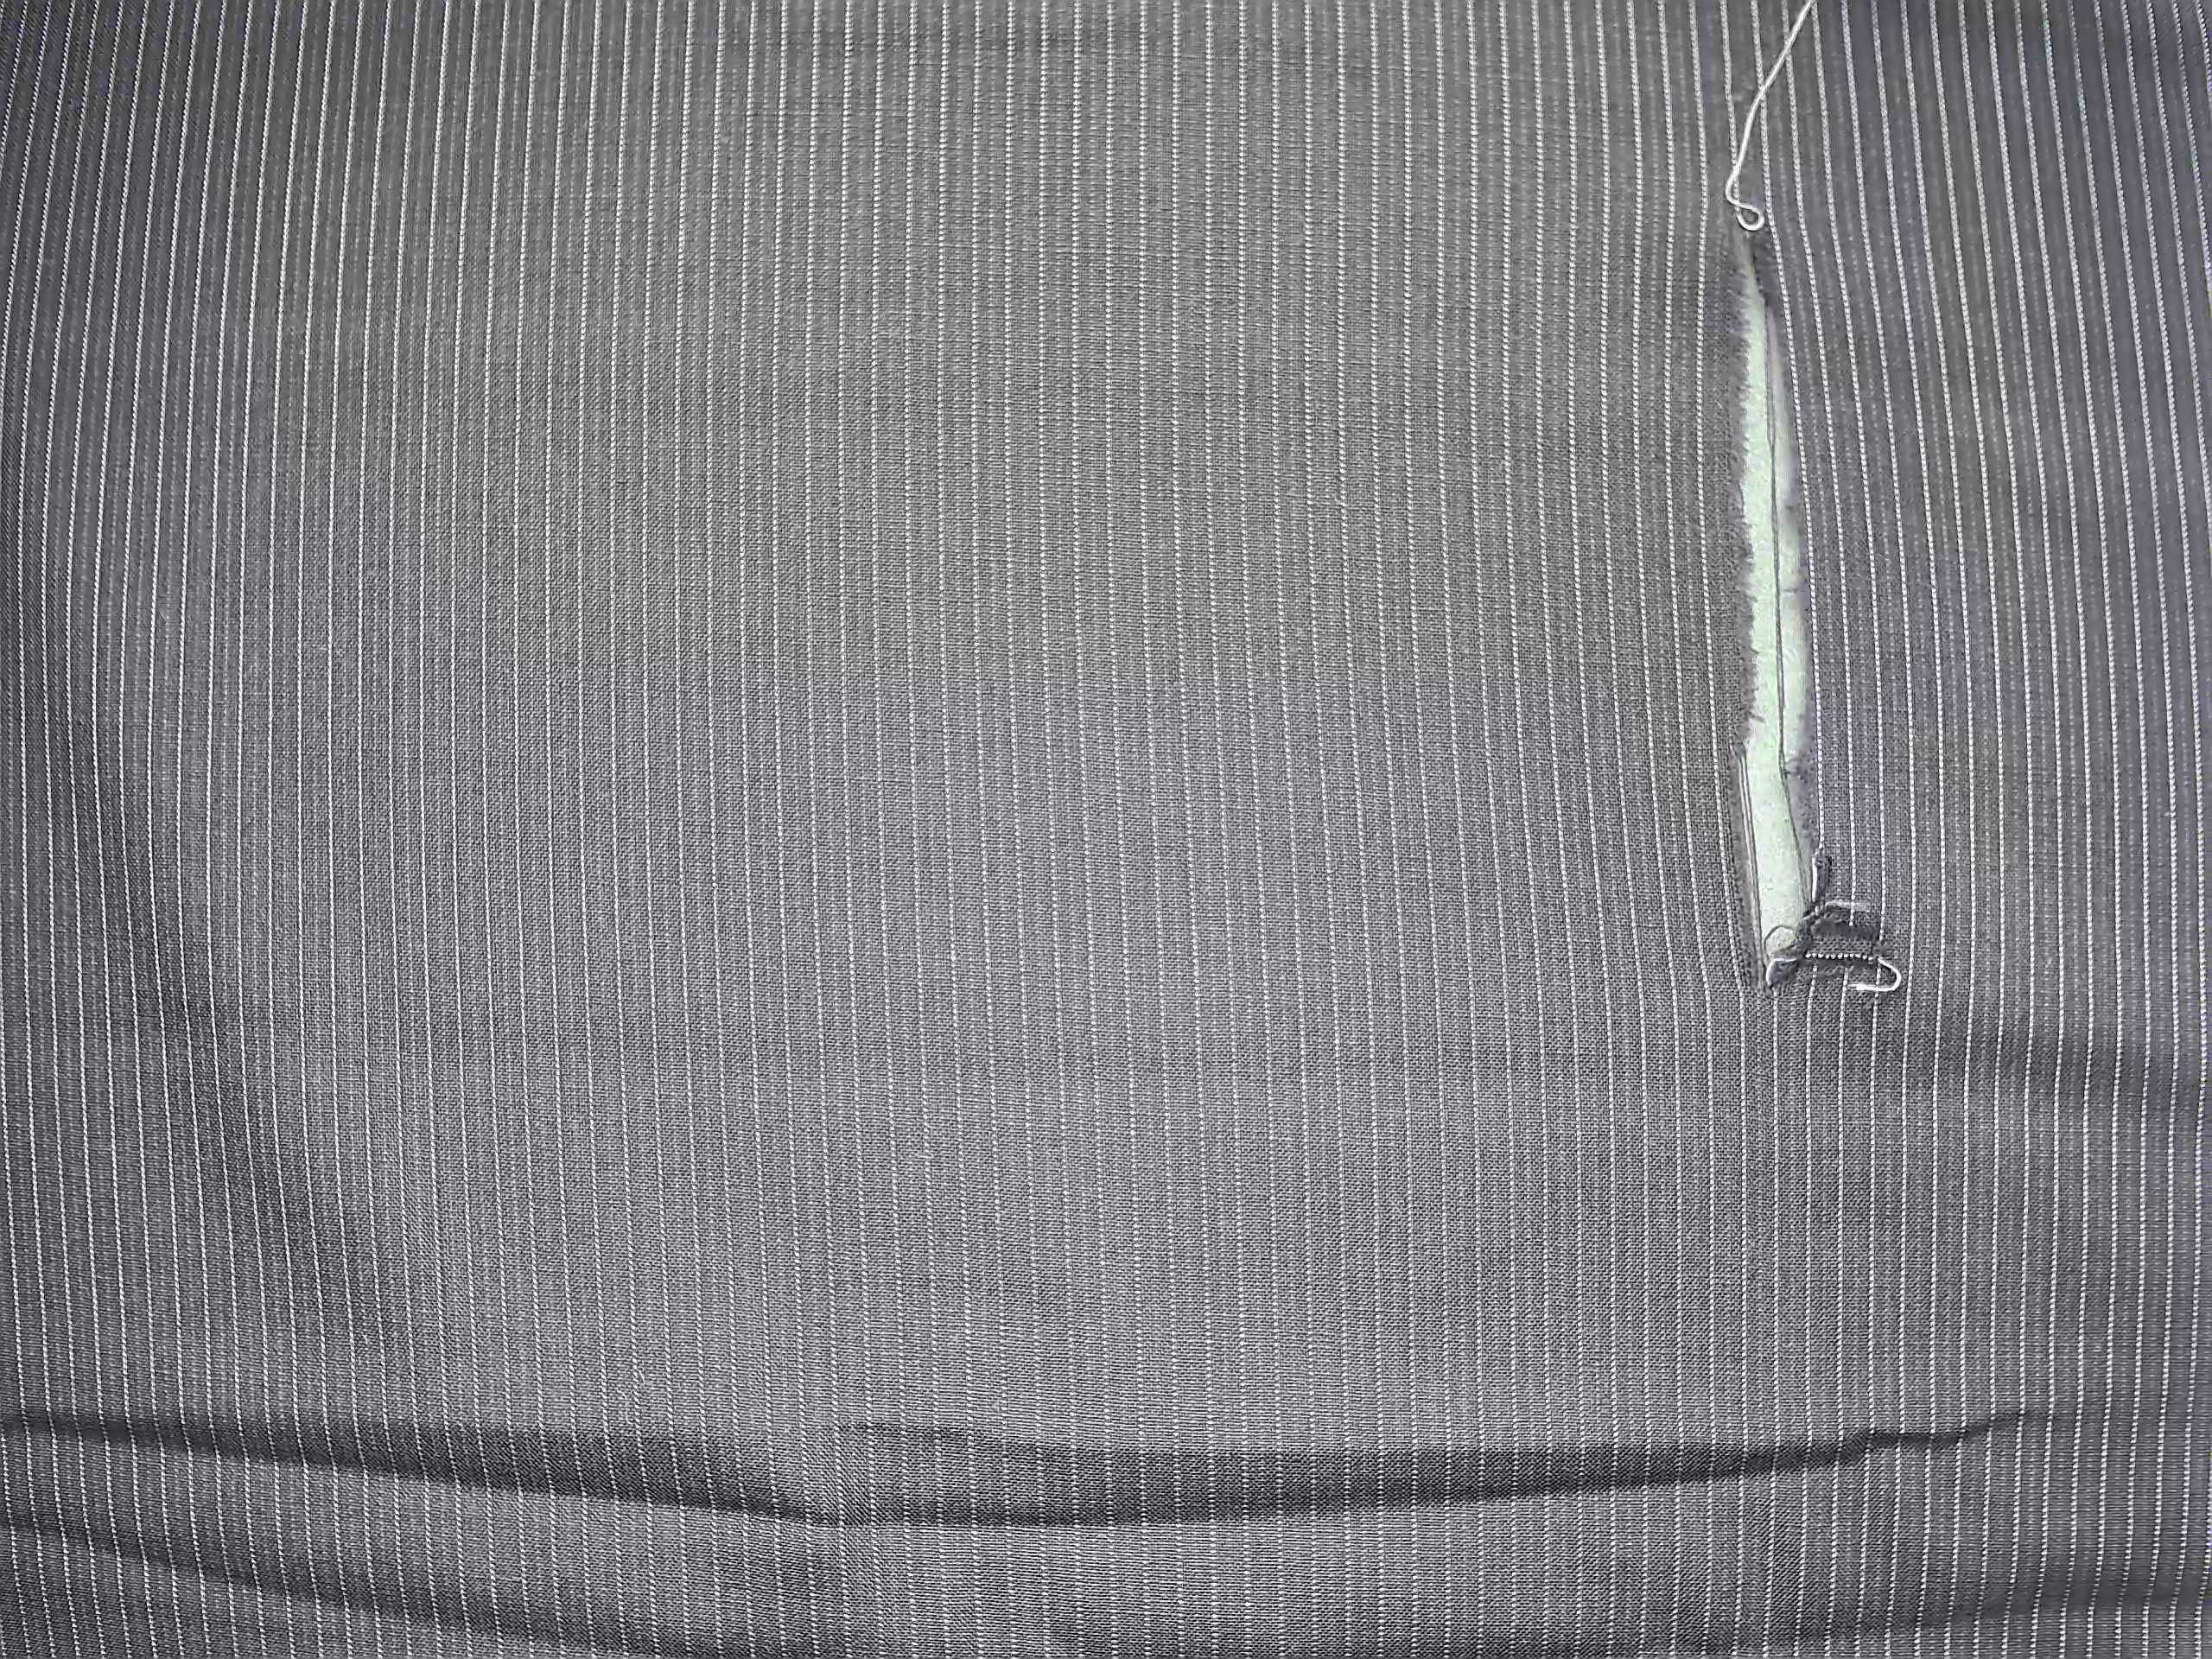others: (1672, 91, 1907, 1066)
